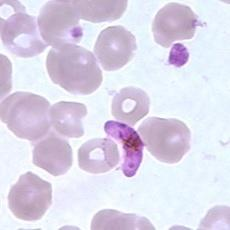Infected: (103, 120, 143, 178)
Uninfected: (46, 44, 104, 96), (140, 115, 192, 164), (8, 170, 52, 222), (153, 0, 198, 47), (1, 11, 46, 58), (37, 1, 83, 46), (10, 94, 51, 140), (95, 26, 136, 70), (110, 86, 151, 126), (31, 138, 73, 177), (77, 137, 117, 174), (50, 100, 88, 138)
